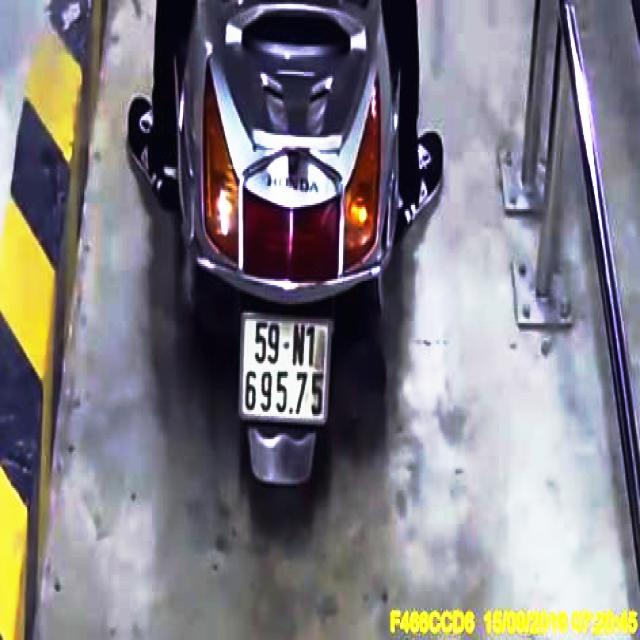license_plate: (242, 314, 332, 423)
